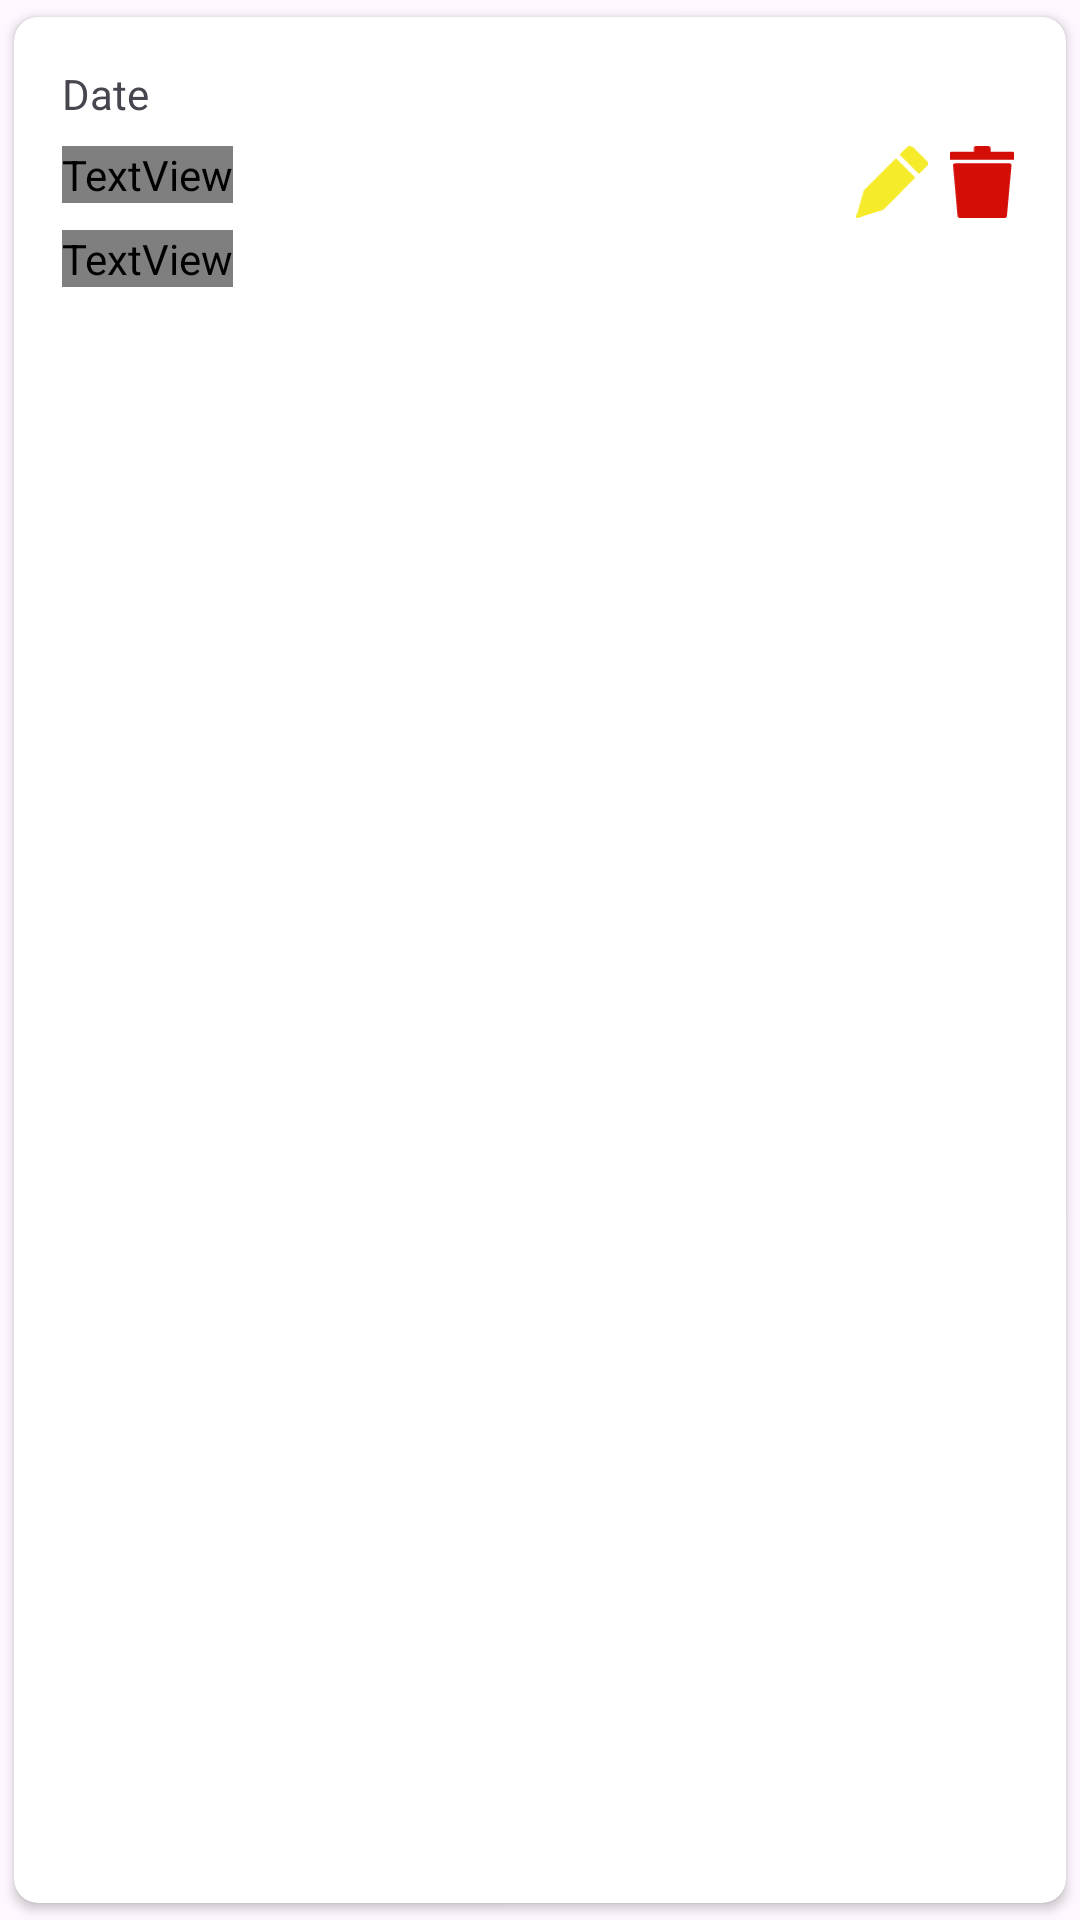

Screen size 1080x1920. Icon name, then its box in pixels as [x1,y1,x2,y2]:
delete: [950,146,1014,218]
edit: [856,146,928,218]
